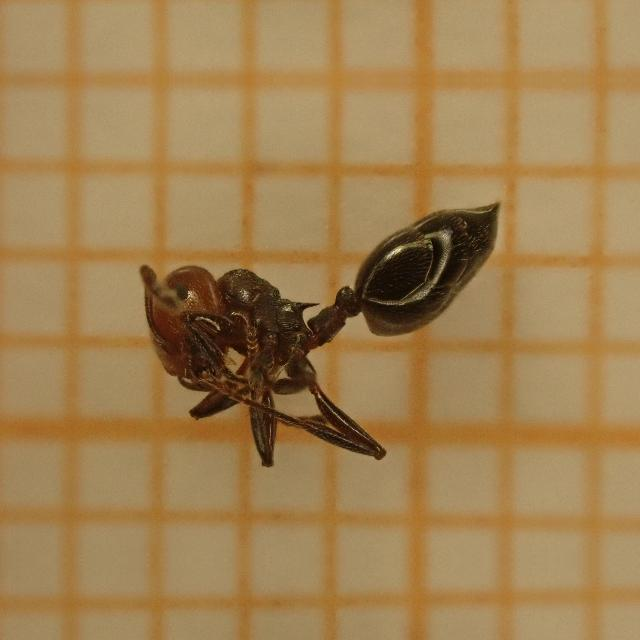Crematogaster: (116, 186, 508, 454)
